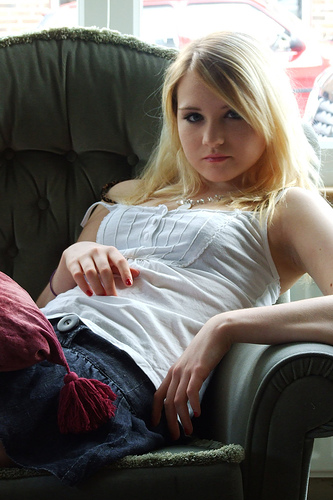without_mask: (168, 67, 269, 183)
